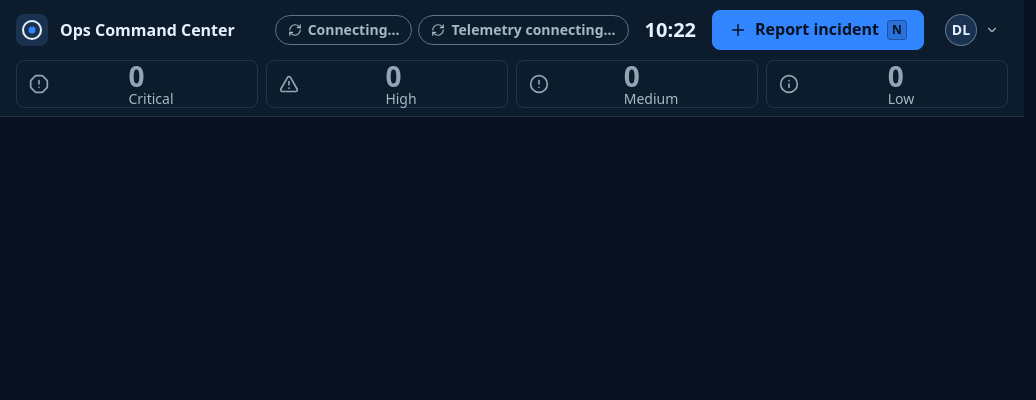
Header › account menu › lists every role of a user with several
Click the button named "Demo Lead".
click(974, 30)  # box [940,8,1008,52]
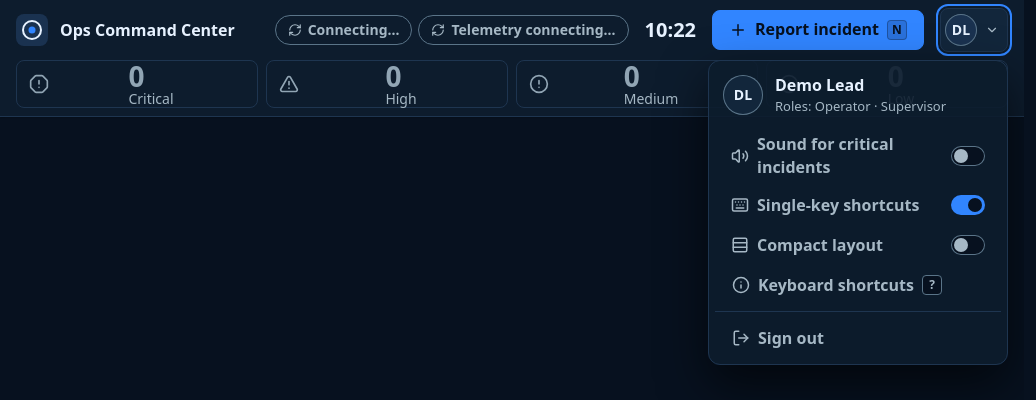
Now the text "Roles: Operator · Supervisor" is shown, box [775,97,946,115]
